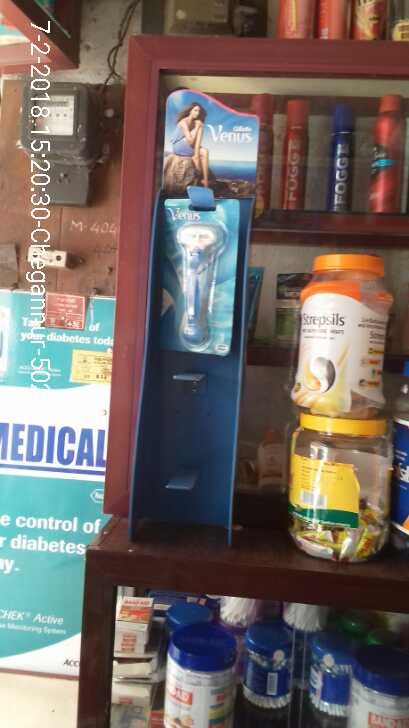venus: (160, 201, 236, 348)
